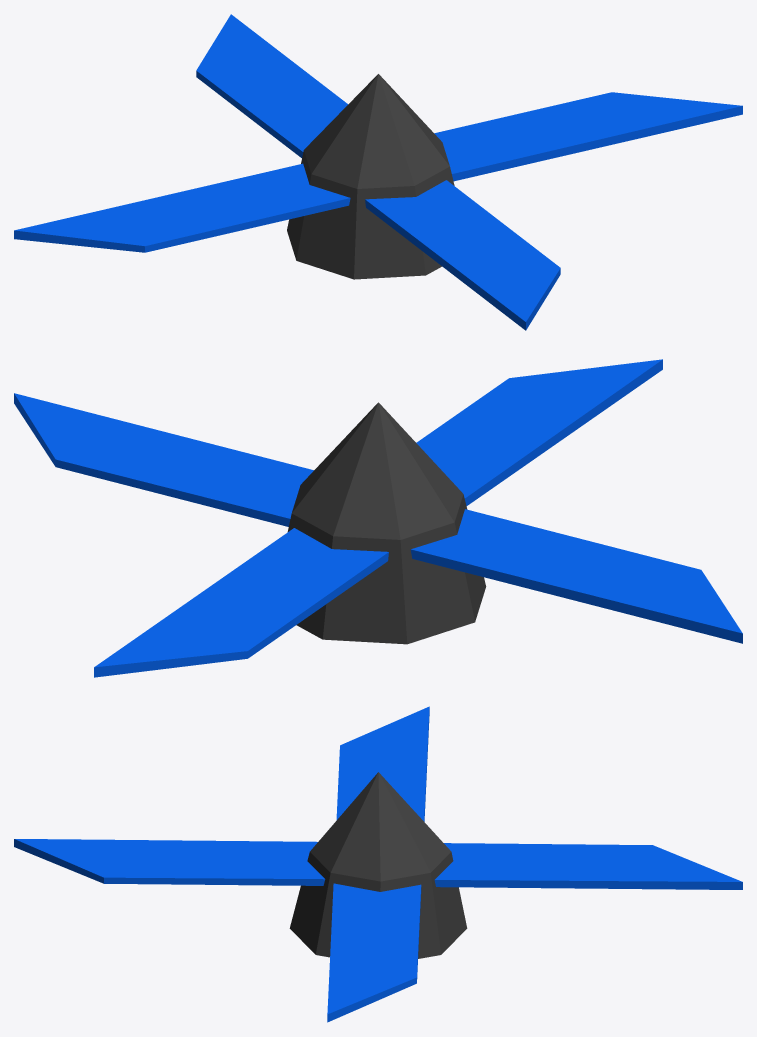
Rendered from propellerB.obj.
3 renders of one model, top to bottom at view 1: azimuth 30°, elevation 25°; view 2: azimuth 150°, elevation 25°; view 3: azimuth 270°, elevation 25°, orthographic. The views are drawn at different scales.
Parts seen in each view (by area): view 1: propeller_prop_Цилиндр.001; view 2: propeller_prop_Цилиндр.001; view 3: propeller_prop_Цилиндр.001.
Part boxes in pixels (box(x1,y1,x2,y2)): propeller_prop_Цилиндр.001: box(14, 14, 742, 330); propeller_prop_Цилиндр.001: box(14, 359, 742, 677); propeller_prop_Цилиндр.001: box(14, 706, 742, 1022).
Bounding box in the file's own units: 2.31 × 0.5472 × 2.31.
